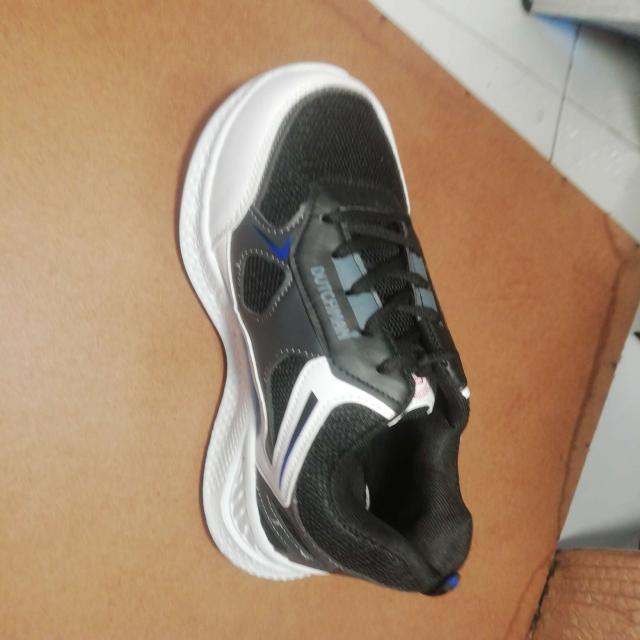shoe: (173, 58, 476, 600)
